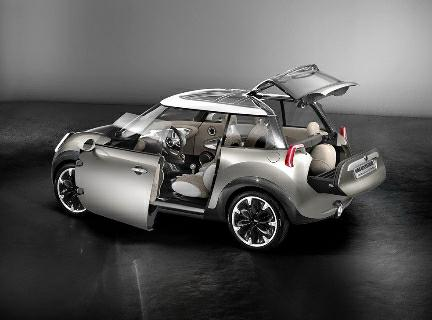MINI-ROCKETMAN: (42, 83, 389, 244)
